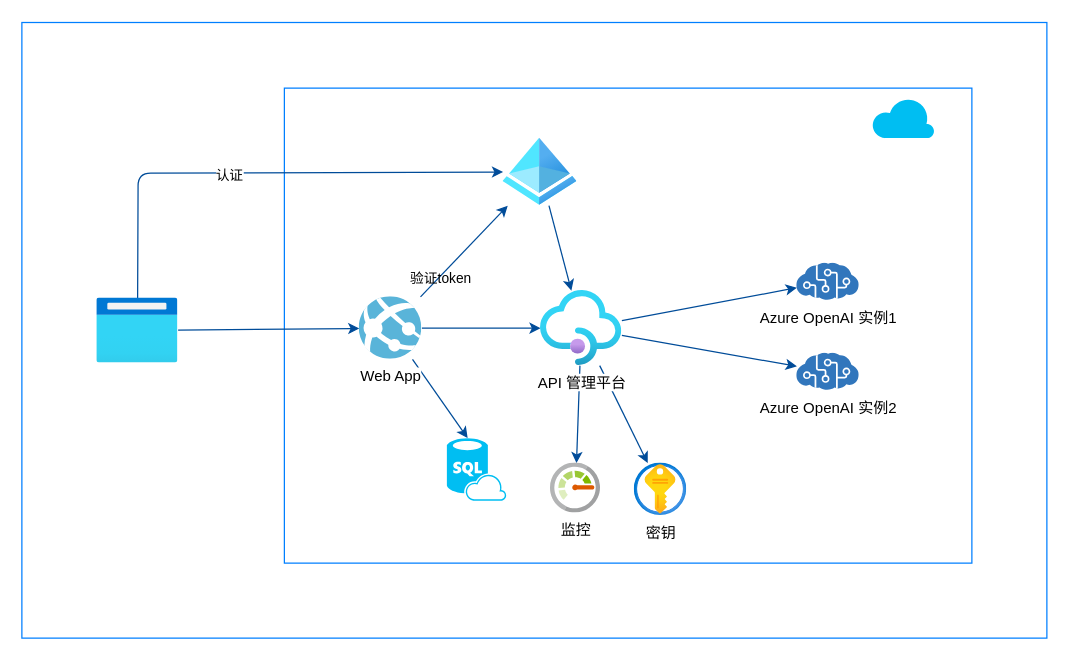
The diagram is 1069 pixels wide and 660 high, and some of its shapes have lost their labels. Each missing label, with the centre of its shape:
"Azure" belongs at (902,117).
"Azure Active Directory" belongs at (539,171).
"VueJS" belongs at (137,330).
